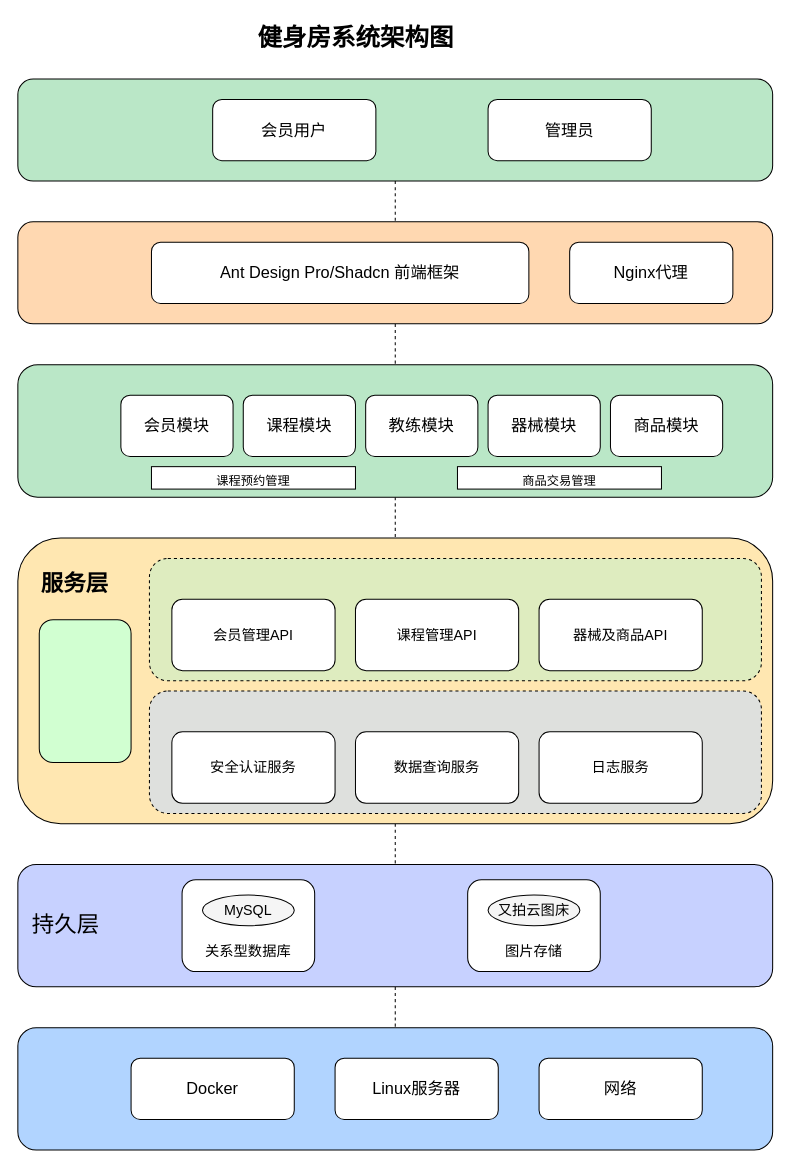
Image size: 791x1168. Some labels were removed from this diagram. Here are the shapes that lost their labels. From the top down, the box of each, then its label:
(17, 78, 773, 181): 用户层
(17, 221, 773, 324): 接入层
(17, 364, 773, 497): 业务层
(148, 557, 761, 681): API接口服务
(38, 619, 131, 762): 跨域资源管理
(148, 690, 761, 813): 核心服务
(17, 1027, 773, 1150): 基础层
